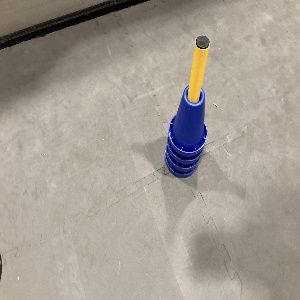Blue_4: (163, 85, 207, 177)
